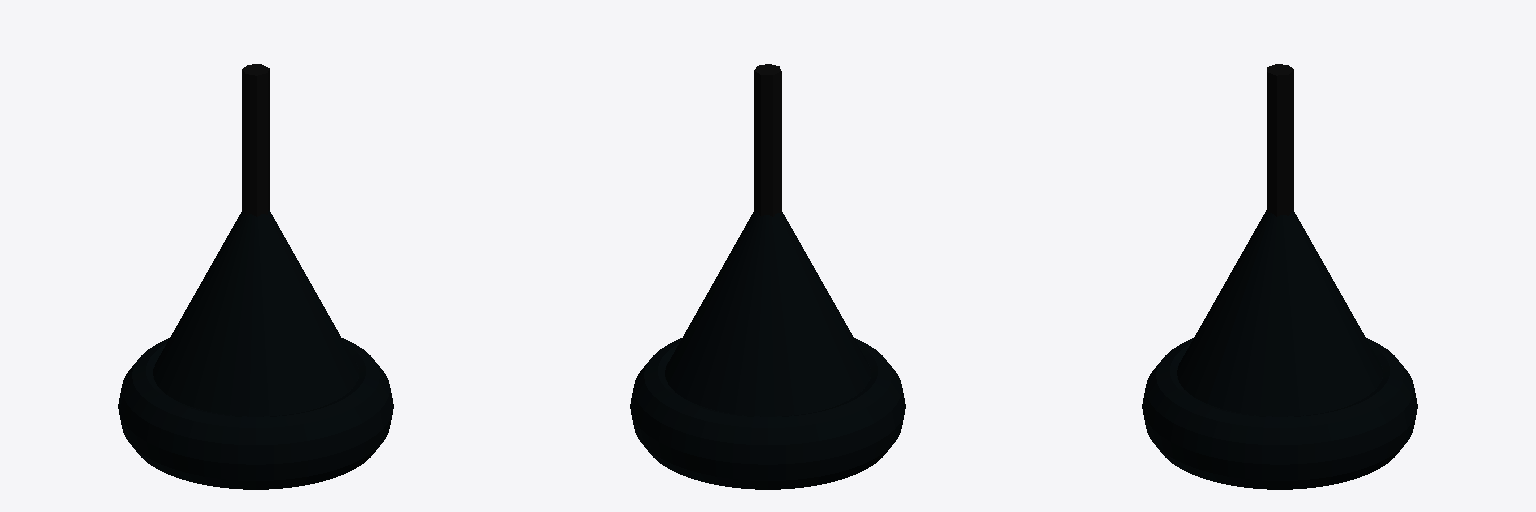
The model's file is lampada.obj.
3 views of the same model, side by side, from view 1: azimuth 30°, elevation 25°; view 2: azimuth 150°, elevation 25°; view 3: azimuth 270°, elevation 25° (orthographic).
Visible parts, largest first — view 1: Cone, Torus, Cylinder; view 2: Cone, Torus, Cylinder; view 3: Cone, Torus, Cylinder.
Part boxes in pixels (left/top/right/bottom): Cone: left=153, top=210, right=358, bottom=416; Torus: left=118, top=338, right=393, bottom=489; Cylinder: left=242, top=64, right=269, bottom=216; Cone: left=665, top=212, right=870, bottom=416; Torus: left=630, top=338, right=905, bottom=489; Cylinder: left=754, top=64, right=781, bottom=216; Cone: left=1177, top=210, right=1382, bottom=416; Torus: left=1142, top=338, right=1417, bottom=489; Cylinder: left=1267, top=64, right=1293, bottom=216.
Bounding box in the file's own units: 2.14 × 3.18 × 2.14.